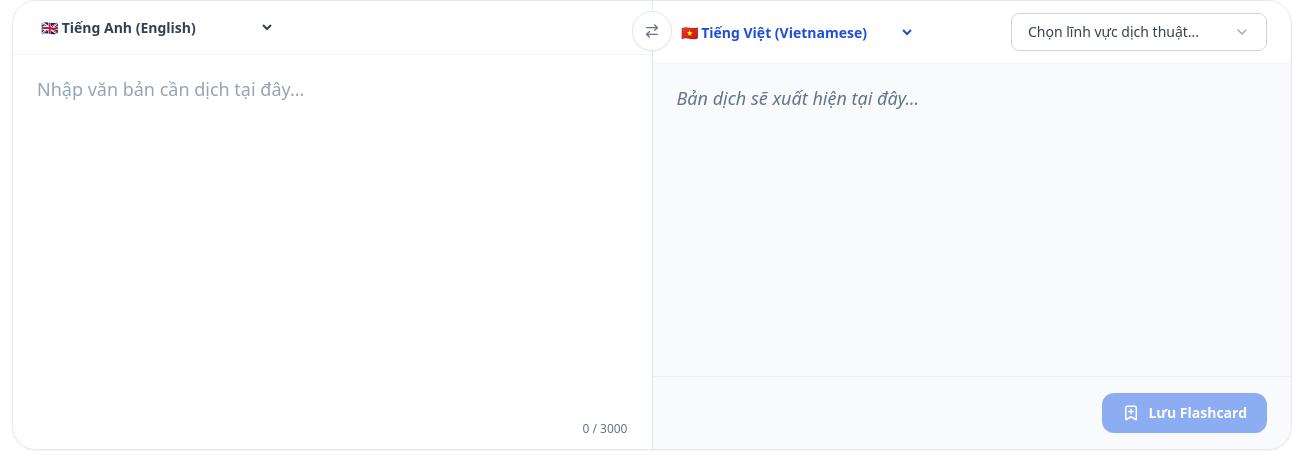
it: TranslationBox - chế độ chuyên ngành › Ctrl+Enter dịch ngay, không chờ debounce
Click the text "Chọn lĩnh vực dịch thuật...". click: (1114, 32)
box: [1028,22,1199,42]
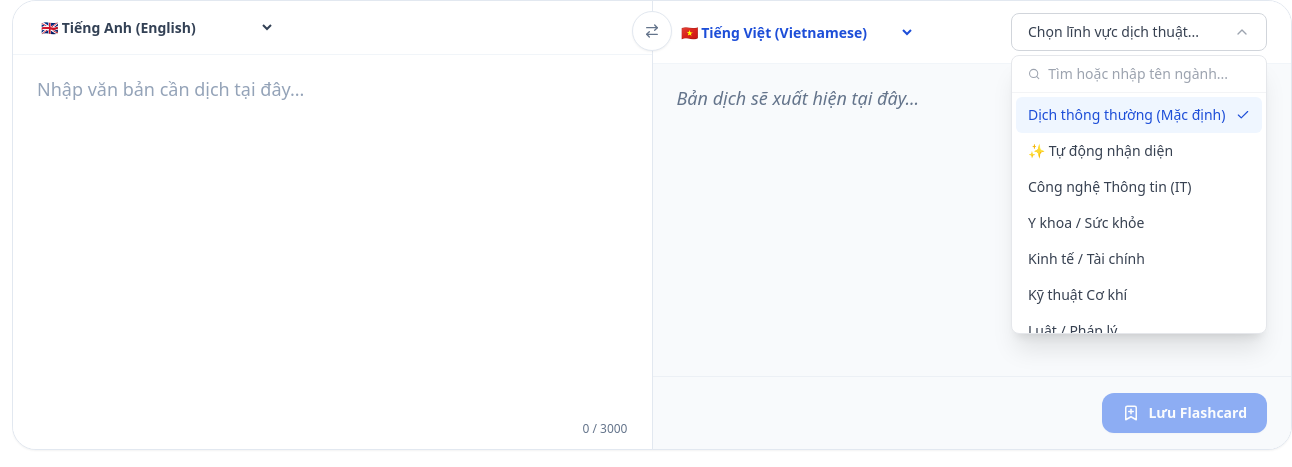
Click the text "✨ Tự động nhận diện". click: (1100, 151)
box: [1028,141,1173,161]
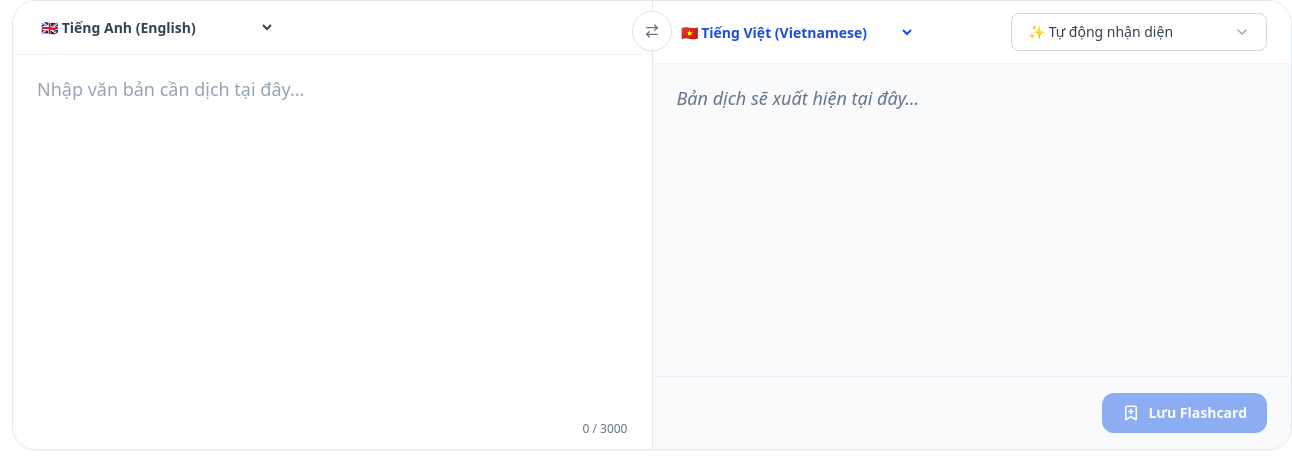
Type "A memory leak" into the text box with placeholder "Nhập văn bản cần dịch tại đây...". click: (332, 232)
box: [13,55,652,409]
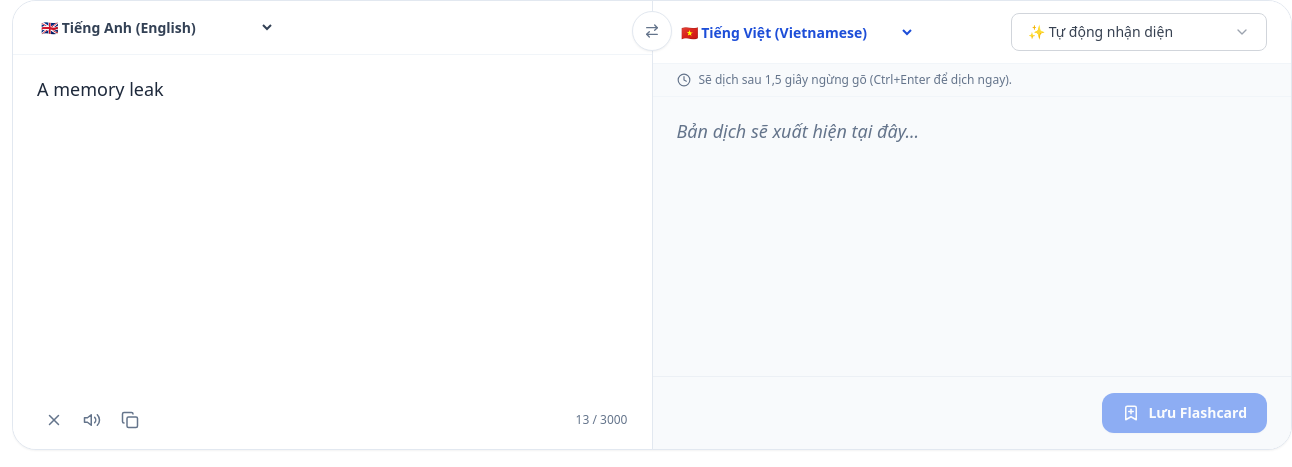
Press Enter in the text box with placeholder "Nhập văn bản cần dịch tại đây...", box [13,55,652,391]
Wait 2000 ms
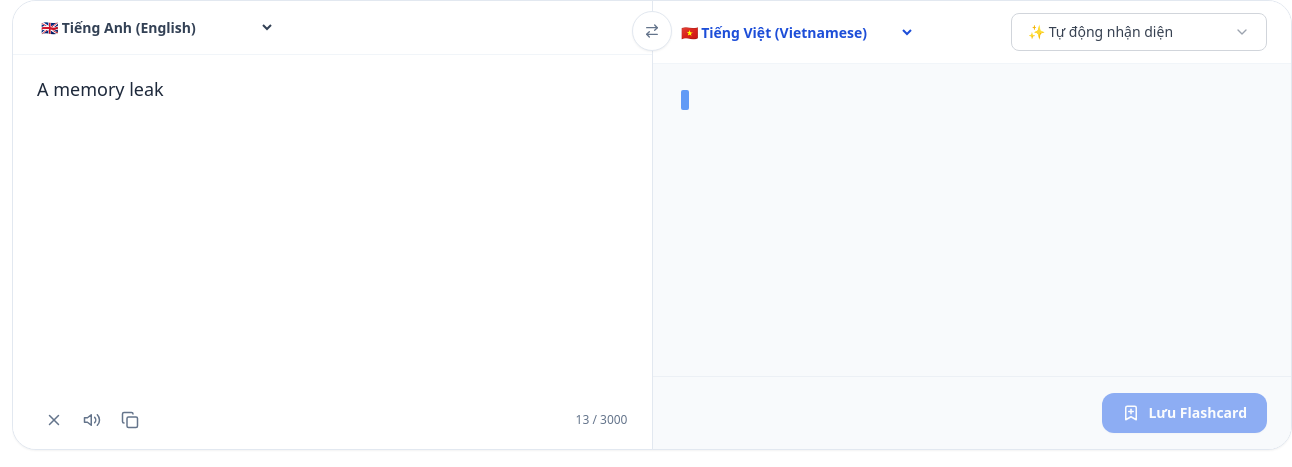
Now the message with test id "domain-waiting" is gone
